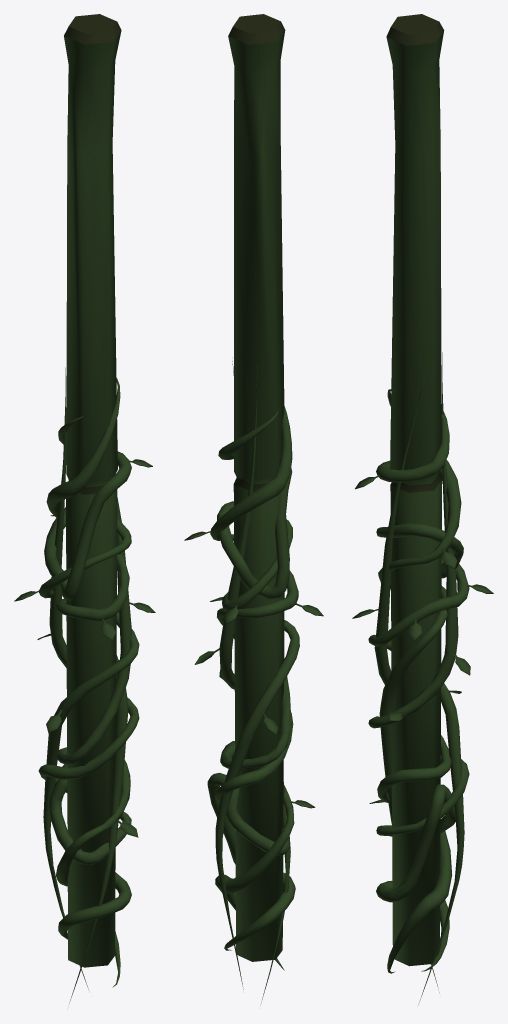
File: Vine Plant phase 2.fbx
3 views of the same model, side by side, from view 1: azimuth 90°, elevation 25°; view 2: azimuth 150°, elevation 25°; view 3: azimuth 270°, elevation 25° (orthographic).
Visible parts, largest first — view 1: Phase 4 Bamboo 4, BezierCurve.003; view 2: Phase 4 Bamboo 4, BezierCurve.003; view 3: Phase 4 Bamboo 4, BezierCurve.003.
Boxes of the visible parts, box(x1,y1,x2,y2) form: Phase 4 Bamboo 4: box(64, 14, 121, 967); BezierCurve.003: box(14, 367, 155, 1003); Phase 4 Bamboo 4: box(228, 14, 285, 961); BezierCurve.003: box(184, 361, 323, 1004); Phase 4 Bamboo 4: box(386, 14, 444, 966); BezierCurve.003: box(352, 352, 493, 1004).
Bounding box in the file's own units: 67.45 × 570 × 74.69.
